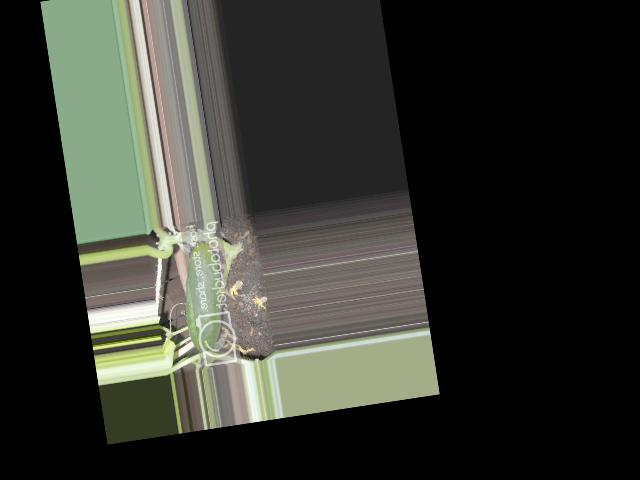cucumber: (176, 241, 231, 352)
